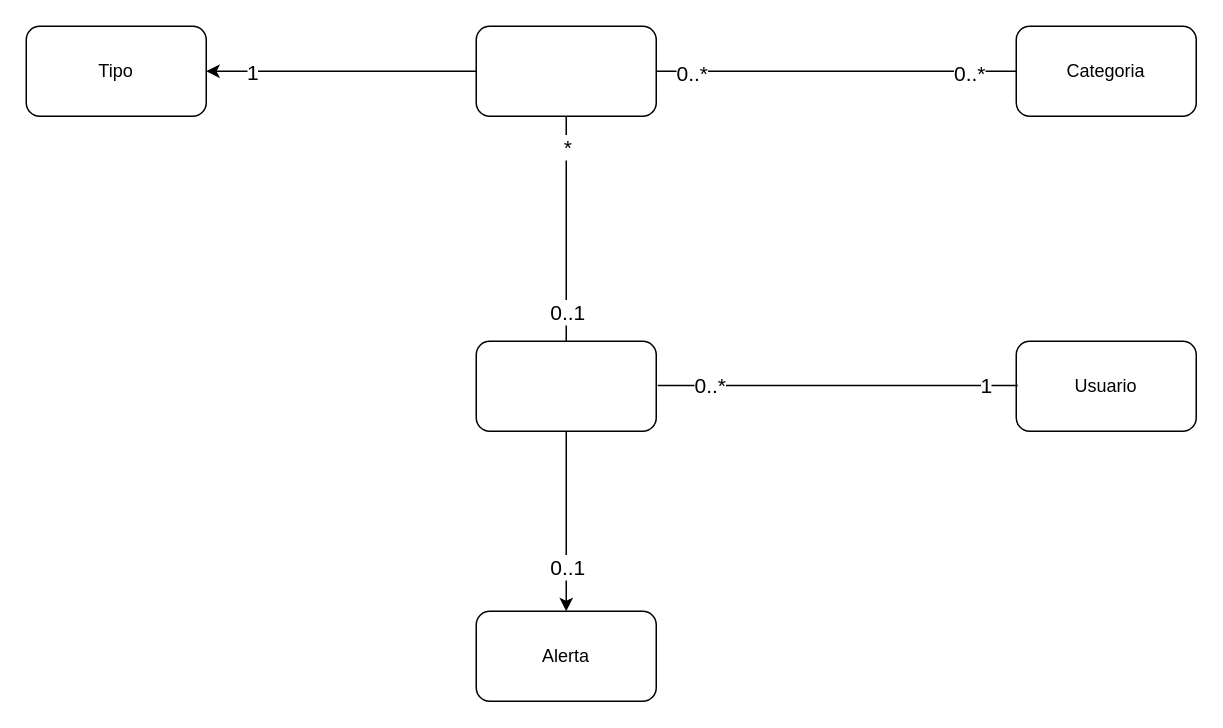
This 1223x728 diagram has some shape labels left out. Each missing label, with the box of its shape:
Item: (475, 25, 656, 116)
Prestamo: (475, 340, 656, 431)
